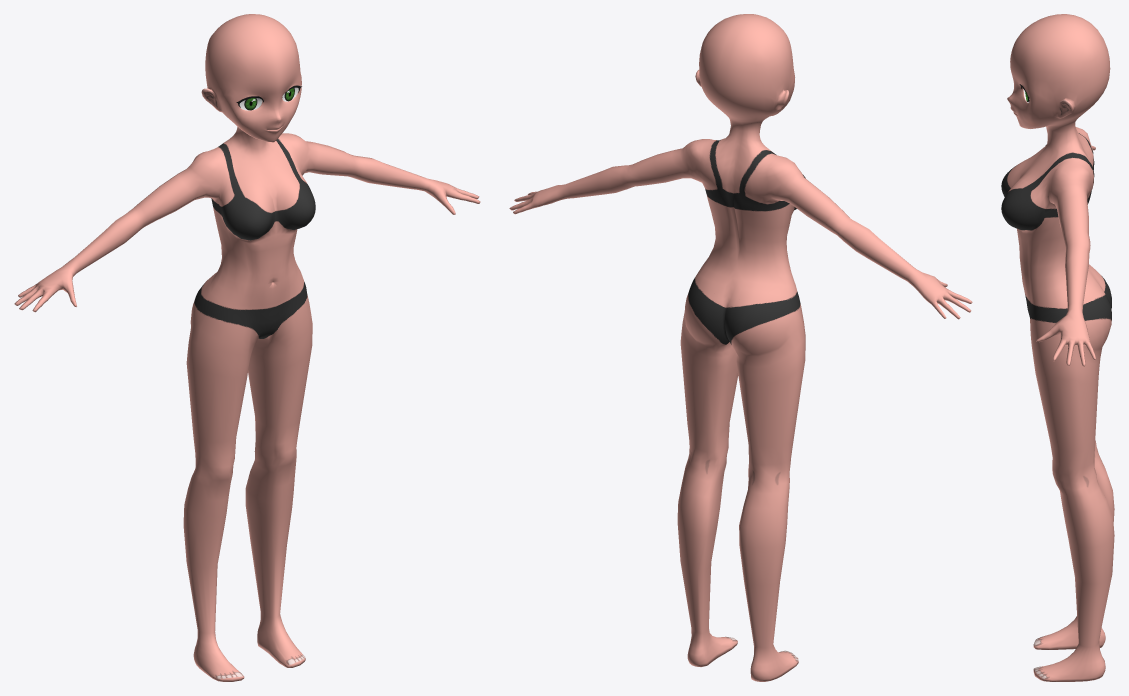
Rendered from Thingy.fbx.
3 views of the same model, side by side, from view 1: azimuth 30°, elevation 25°; view 2: azimuth 150°, elevation 25°; view 3: azimuth 270°, elevation 25° (orthographic).
Visible parts, largest first — view 1: Girl; view 2: Girl; view 3: Girl.
Boxes of the visible parts, <box> form: Girl: <box>14,14,480,681</box>; Girl: <box>509,14,972,681</box>; Girl: <box>1001,14,1114,681</box>.
Size of the model in its own units: 328 by 439 by 70.14.
1 material, 1 textured.
